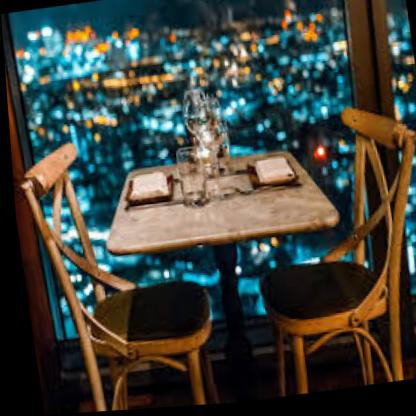Dining Table: (3, 23, 416, 416)
